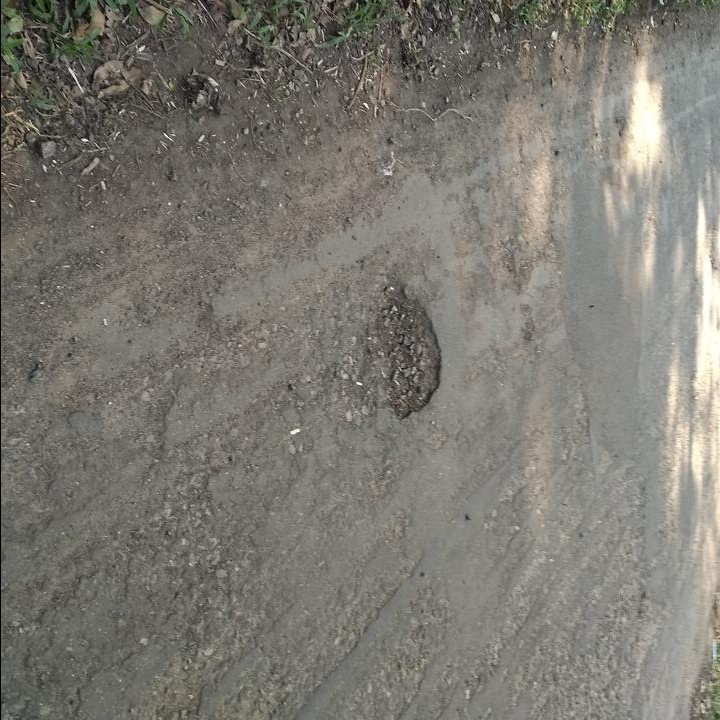pothole: (367, 271, 447, 422)
